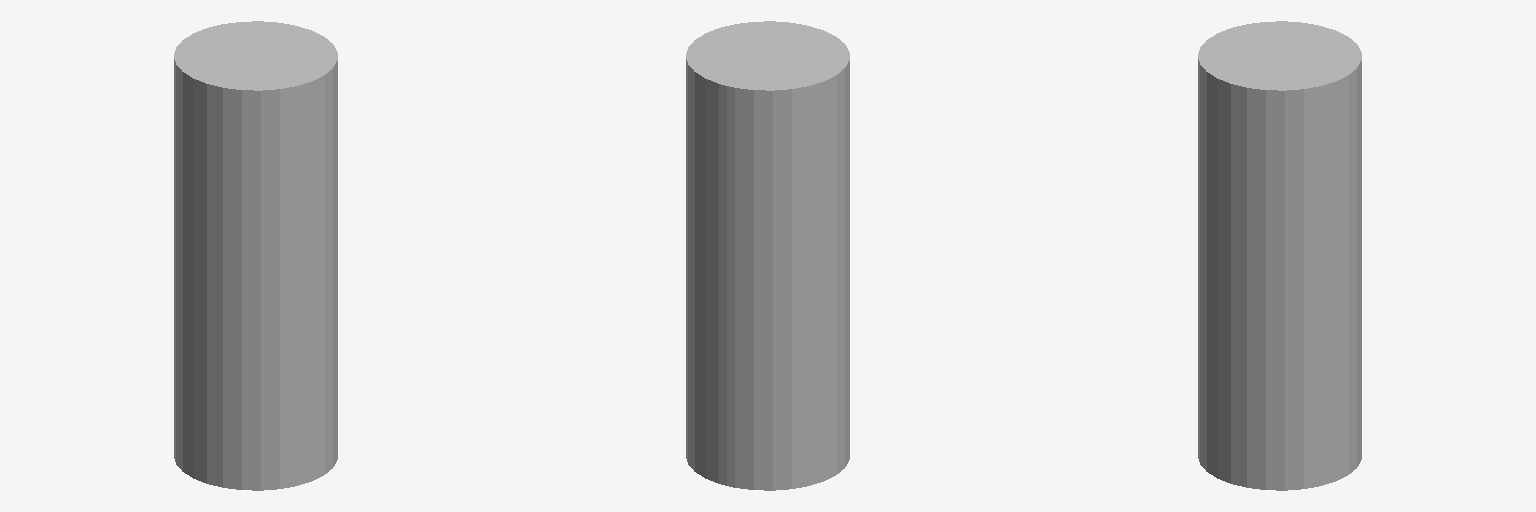
File: 4-hull_visual_4-hull.obj
3 views of the same model, side by side, from view 1: azimuth 30°, elevation 25°; view 2: azimuth 150°, elevation 25°; view 3: azimuth 270°, elevation 25° (orthographic).
Visible parts, largest first — view 1: 4-hull_visual_4-hull; view 2: 4-hull_visual_4-hull; view 3: 4-hull_visual_4-hull.
Part boxes in pixels (x1,y1,x2,y2): 4-hull_visual_4-hull: (174,21,337,490); 4-hull_visual_4-hull: (686,21,849,490); 4-hull_visual_4-hull: (1198,21,1361,490).
Size of the model in its own units: 0.1116 by 0.3 by 0.1118.